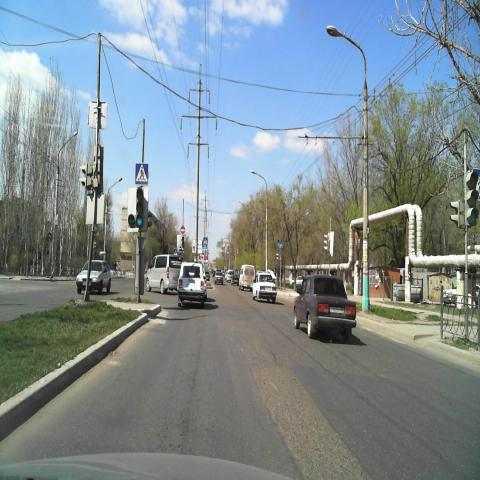5_19_1: (134, 161, 150, 185)
